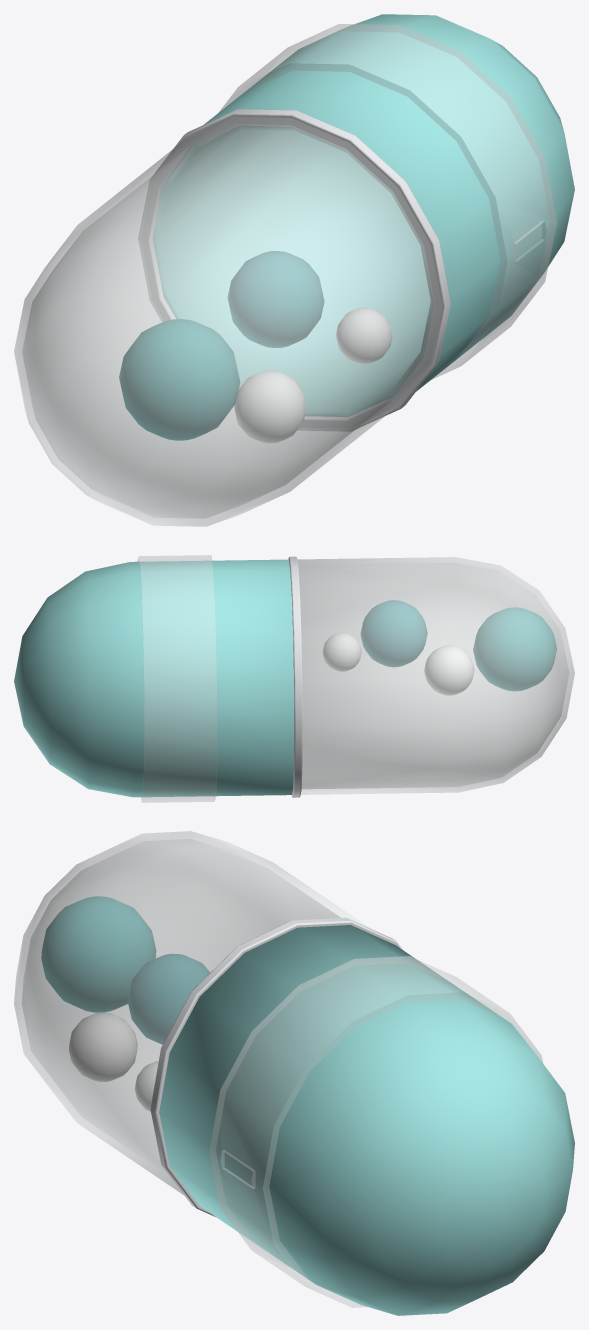
The picture shows the model from 3 angles, top to bottom: view 1: azimuth 30°, elevation 25°; view 2: azimuth 150°, elevation 25°; view 3: azimuth 270°, elevation 25°; orthographic projection. The views are drawn at different scales.
Visible parts, largest first — view 1: shell_b, shell_a, label, seam, bead1, bead3, bead2, bead4; view 2: shell_a, shell_b, label, bead1, bead3, seam, bead2, bead4; view 3: shell_a, shell_b, label, bead1, bead3, seam, bead2, bead4.
Boxes of the visible parts, x1=… form: shell_b: x1=14, y1=117, x2=441, y2=526; shell_a: x1=153, y1=14, x2=574, y2=416; label: x1=219, y1=24, x2=557, y2=379; seam: x1=138, y1=109, x2=450, y2=431; bead1: x1=119, y1=319, x2=240, y2=440; bead3: x1=227, y1=251, x2=324, y2=348; bead2: x1=234, y1=370, x2=306, y2=443; bead4: x1=336, y1=307, x2=392, y2=364; shell_a: x1=14, y1=559, x2=294, y2=797; shell_b: x1=297, y1=557, x2=574, y2=794; label: x1=137, y1=555, x2=217, y2=802; bead1: x1=473, y1=607, x2=556, y2=691; bead3: x1=360, y1=600, x2=427, y2=667; seam: x1=288, y1=556, x2=302, y2=797; bead2: x1=424, y1=645, x2=474, y2=695; bead4: x1=322, y1=632, x2=361, y2=671; shell_a: x1=159, y1=925, x2=574, y2=1315; shell_b: x1=14, y1=831, x2=370, y2=1194; label: x1=209, y1=956, x2=542, y2=1307; bead1: x1=41, y1=896, x2=156, y2=1012; bead3: x1=128, y1=953, x2=209, y2=1044; seam: x1=150, y1=917, x2=403, y2=1216; bead2: x1=69, y1=1012, x2=137, y2=1081; bead4: x1=135, y1=1061, x2=158, y2=1111.
Size of the model in its own units: 1.81 by 0.88 by 1.44.
